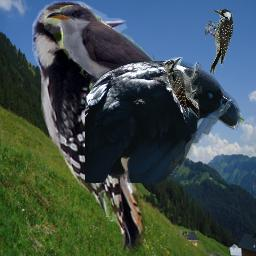Crow: (85, 61, 241, 183)
Cuckoo: (44, 5, 244, 126)
Woodpecker: (32, 1, 181, 255), (163, 57, 202, 119), (205, 9, 233, 74)
